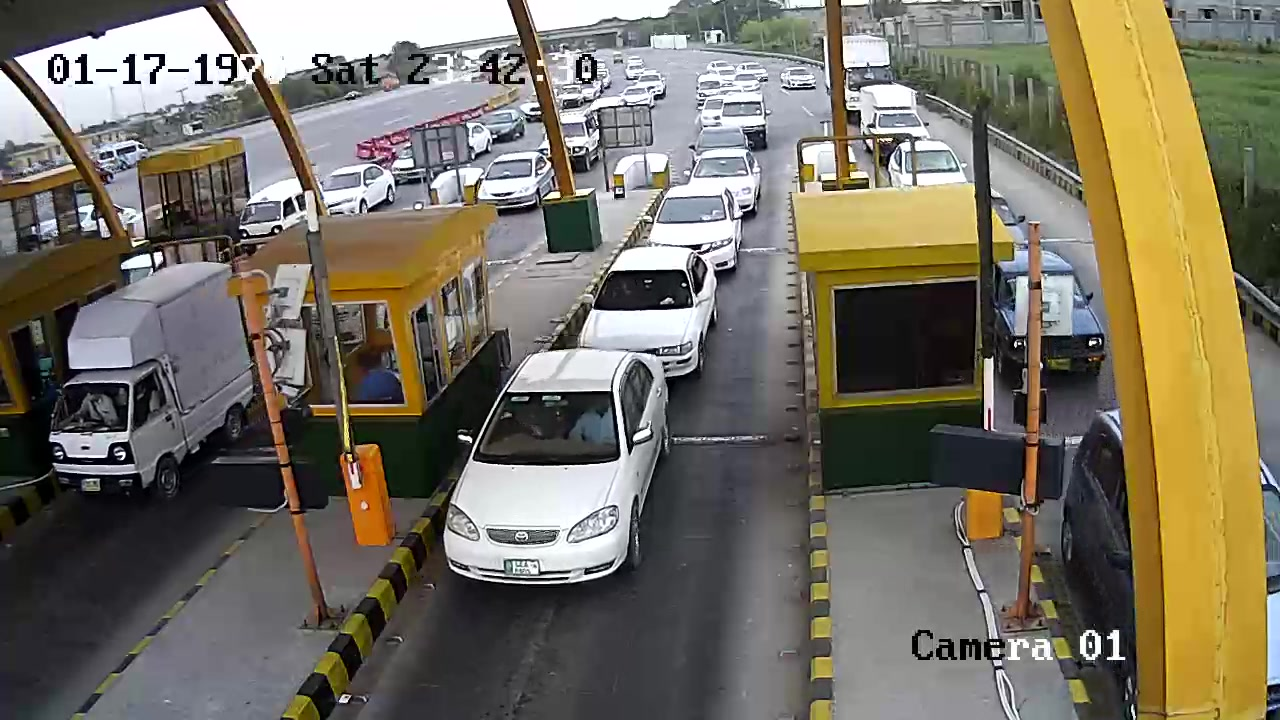F1: (434, 347, 714, 601)
